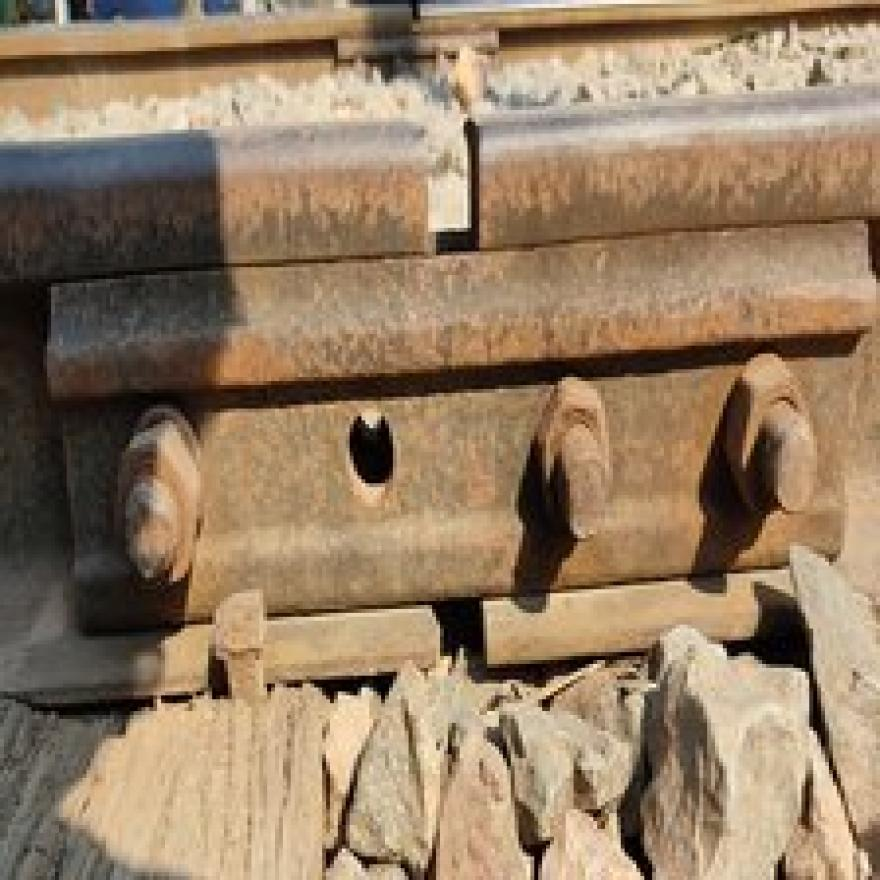railway-gap: (342, 90, 574, 311), (400, 574, 523, 682), (385, 0, 442, 31)
